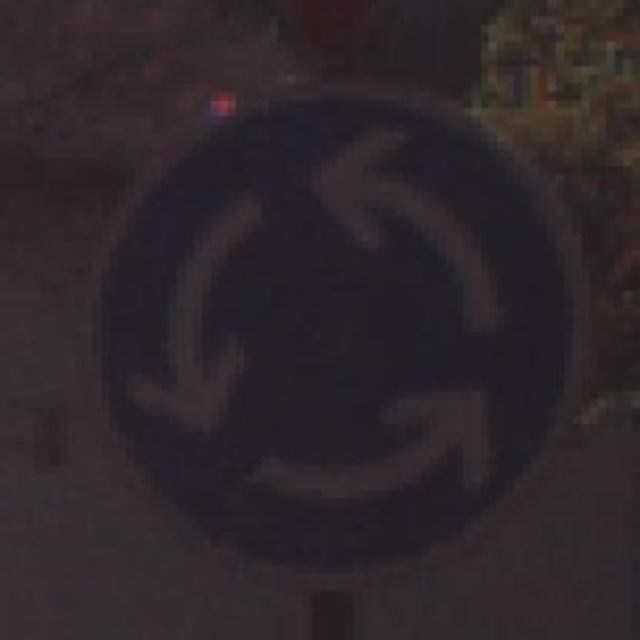Round-About: (67, 66, 607, 582)
